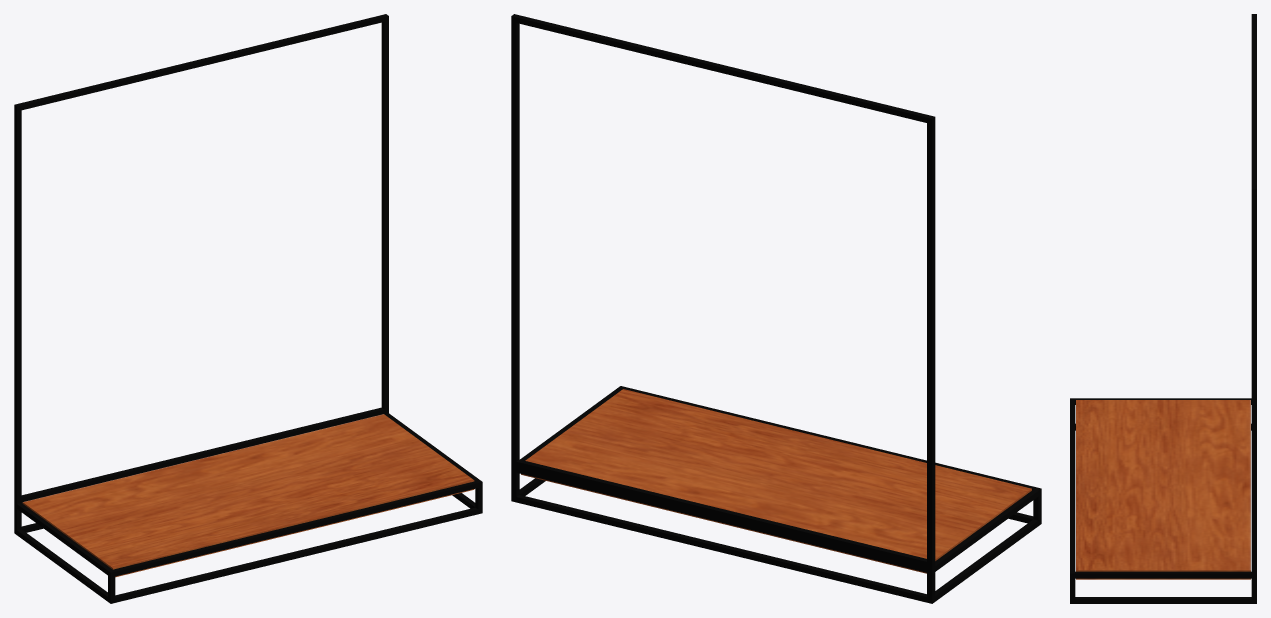
Rendered from Shelf_06_a_Art.fbx.
3 views of the same model, side by side, from view 1: azimuth 30°, elevation 25°; view 2: azimuth 150°, elevation 25°; view 3: azimuth 270°, elevation 25° (orthographic). The views are drawn at different scales.
Parts seen in each view (by area): view 1: Shelf_06_a; view 2: Shelf_06_a; view 3: Shelf_06_a.
Boxes of the visible parts, left/top/right/bottom form: Shelf_06_a: left=14, top=14, right=482, bottom=603; Shelf_06_a: left=511, top=14, right=1041, bottom=603; Shelf_06_a: left=1070, top=14, right=1256, bottom=603.
Bounding box in the file's own units: 200 × 220 × 90.
